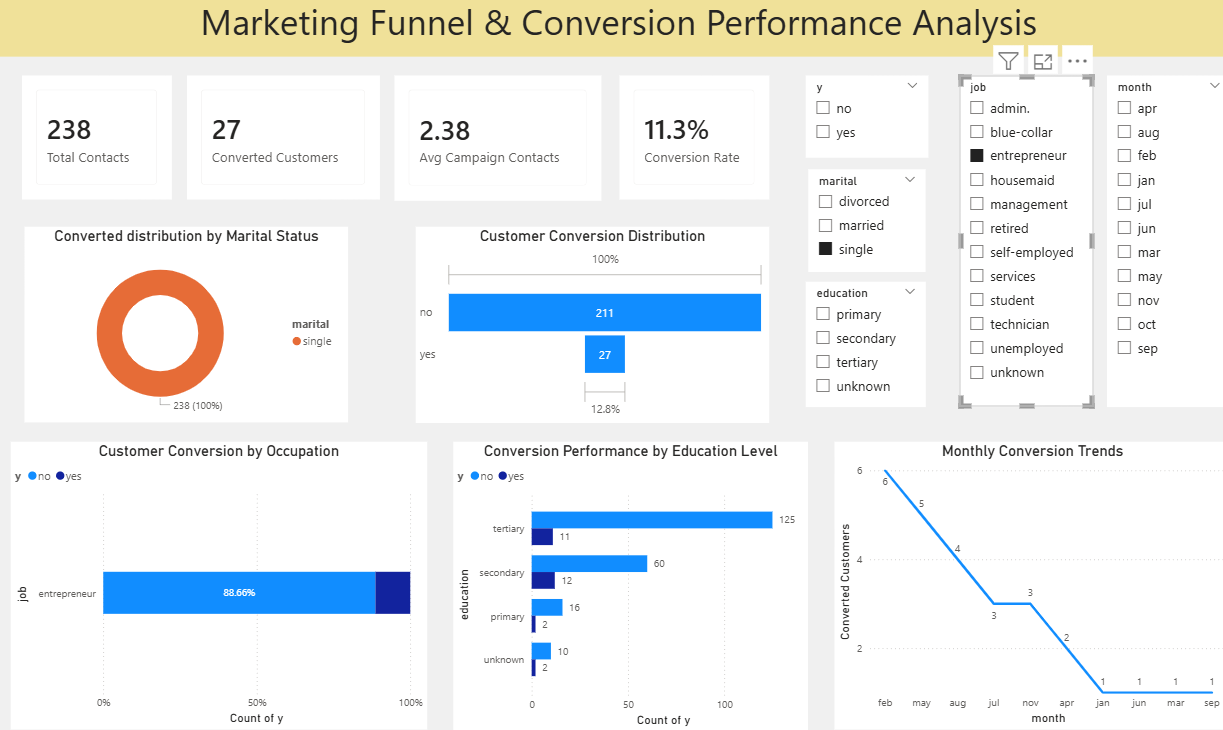

What the dashboard file says about the page in this screenshot:
{"tool":"powerbi","page":{"name":"Page 1","canvas":[1500,900],"ordinal":0},"visuals":[{"type":"textbox","box":[0,0,1500.5,76.9],"z":0},{"type":"cardVisual","fields":{"Data":["bank-full.Total Contacts"]},"box":[30.2,98.9,181,149.6],"z":1000},{"type":"cardVisual","fields":{"Data":["bank-full.Converted Customers"]},"box":[229.2,98.9,232.8,149.6],"z":2000},{"type":"cardVisual","fields":{"Data":["bank-full.Conversion Rate"]},"box":[750.4,100.1,181,149.6],"z":3000},{"type":"cardVisual","fields":{"Data":["bank-full.Avg Campaign Contacts"]},"box":[479,98.9,249.7,150.8],"z":4000},{"type":"funnel","title":"Customer Conversion Distribution","fields":{"Y":["CountNonNull(bank-full.marital)"],"Category":["bank-full.y"]},"box":[505.2,282,426.8,236.8],"z":5000},{"type":"hundredPercentStackedBarChart","title":"Customer Conversion by Occupation","fields":{"Category":["bank-full.job"],"Series":["bank-full.y"],"Y":["CountNonNull(bank-full.y)"]},"box":[16.6,541.4,502.2,346.9],"z":6000},{"type":"donutChart","title":"Converted distribution by Marital Status","fields":{"Category":["bank-full.marital"],"Y":["CountNonNull(bank-full.y)"]},"box":[33.8,281.4,390.8,236.4],"z":7000},{"type":"slicer","fields":{"Values":["bank-full.y"]},"box":[975.7,99.5,147.8,99.5],"z":8000},{"type":"clusteredBarChart","title":"Conversion Performance by Education Level","fields":{"Category":["bank-full.education"],"Series":["bank-full.y"],"Y":["CountNonNull(bank-full.y)"]},"box":[550.4,541.4,428.3,348.4],"z":9000},{"type":"lineChart","title":"Monthly Conversion Trends","fields":{"Category":["bank-full.month"],"Y":["bank-full.Converted Customers"]},"box":[1010.4,541.4,478.1,346.9],"z":10000},{"type":"slicer","fields":{"Values":["bank-full.marital"]},"box":[978.7,212.6,141.8,123.7],"z":11000},{"type":"slicer","fields":{"Values":["bank-full.month"]},"box":[1339.1,99.5,149.3,399.6],"z":12000},{"type":"slicer","fields":{"Values":["bank-full.job"]},"box":[1161.2,99.5,161.4,399.6],"z":13000},{"type":"slicer","fields":{"Values":["bank-full.education"]},"box":[975.7,348.4,144.8,150.8],"z":14000}]}

Visuals, with their boxes in screenshot pixels (x1, y1, x2, y2), scaled from the page's 1500x900 canvas onto the 1223x730 screenshot:
textbox: x1=0, y1=0, x2=1222, y2=62
cardVisual - bank-full.Total Contacts: x1=25, y1=80, x2=172, y2=202
cardVisual - bank-full.Converted Customers: x1=187, y1=80, x2=377, y2=202
cardVisual - bank-full.Conversion Rate: x1=612, y1=81, x2=759, y2=203
cardVisual - bank-full.Avg Campaign Contacts: x1=391, y1=80, x2=594, y2=203
"Customer Conversion Distribution" funnel: x1=412, y1=229, x2=760, y2=421
"Customer Conversion by Occupation" hundredPercentStackedBarChart: x1=14, y1=439, x2=423, y2=721
"Converted distribution by Marital Status" donutChart: x1=28, y1=228, x2=346, y2=420
slicer - bank-full.y: x1=796, y1=81, x2=916, y2=161
"Conversion Performance by Education Level" clusteredBarChart: x1=449, y1=439, x2=798, y2=722
"Monthly Conversion Trends" lineChart: x1=824, y1=439, x2=1214, y2=721
slicer - bank-full.marital: x1=798, y1=172, x2=914, y2=273
slicer - bank-full.month: x1=1092, y1=81, x2=1214, y2=405
slicer - bank-full.job: x1=947, y1=81, x2=1078, y2=405
slicer - bank-full.education: x1=796, y1=283, x2=914, y2=405
